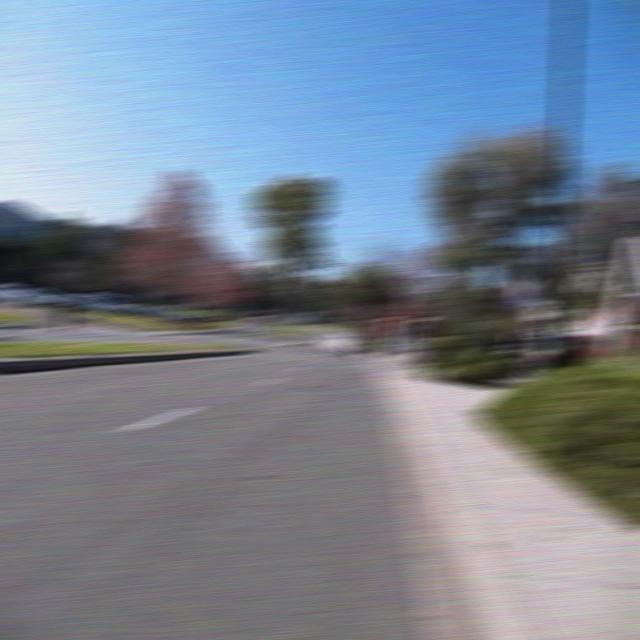stop: (226, 283, 253, 305), (389, 304, 415, 324)
